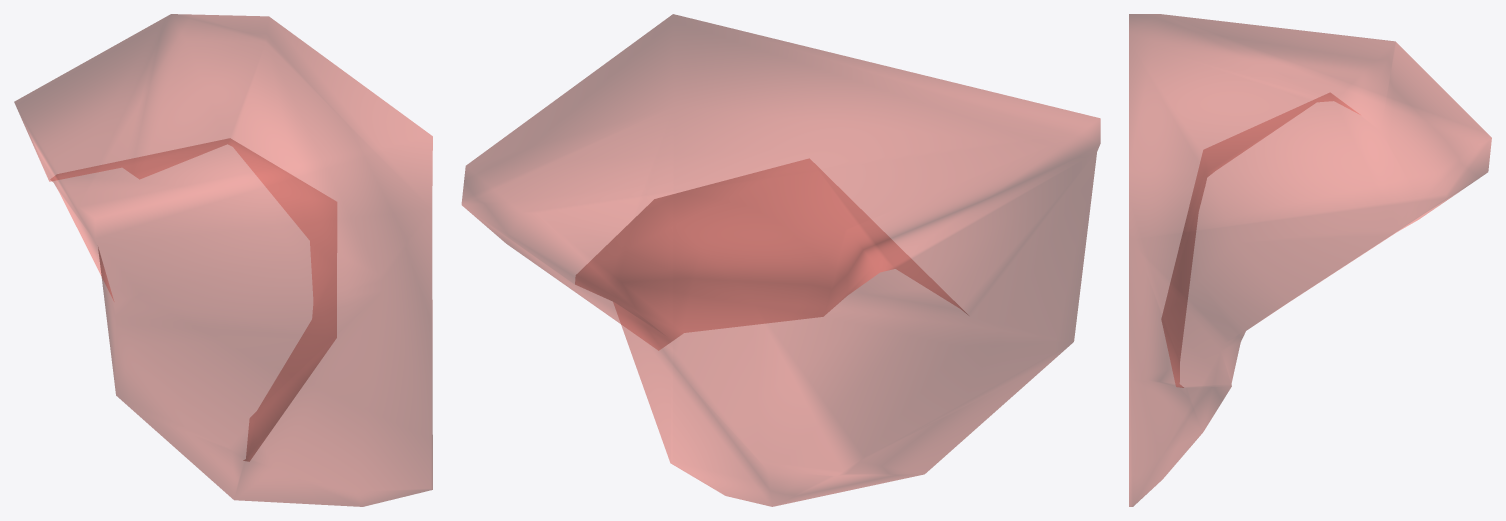
The model's file is Part1_001_Bogdan.fbx.
The picture shows the model from 3 angles, left to right: view 1: azimuth 30°, elevation 25°; view 2: azimuth 150°, elevation 25°; view 3: azimuth 270°, elevation 25°; orthographic projection. The views are drawn at different scales.
Visible parts, largest first — view 1: Part1.001; view 2: Part1.001; view 3: Part1.001.
Boxes of the visible parts, x1=… form: Part1.001: x1=14, y1=14, x2=432, y2=506; Part1.001: x1=461, y1=14, x2=1100, y2=506; Part1.001: x1=1129, y1=14, x2=1491, y2=506.
Size of the model in its own units: 60 by 60 by 58.7.
